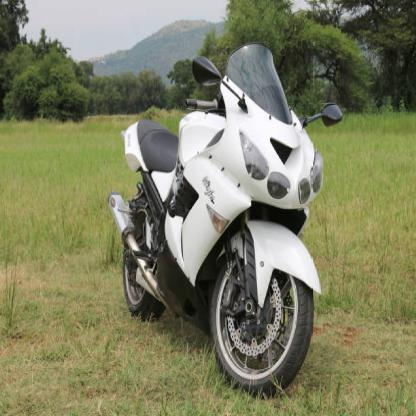Motorcycle: (106, 31, 343, 402)
